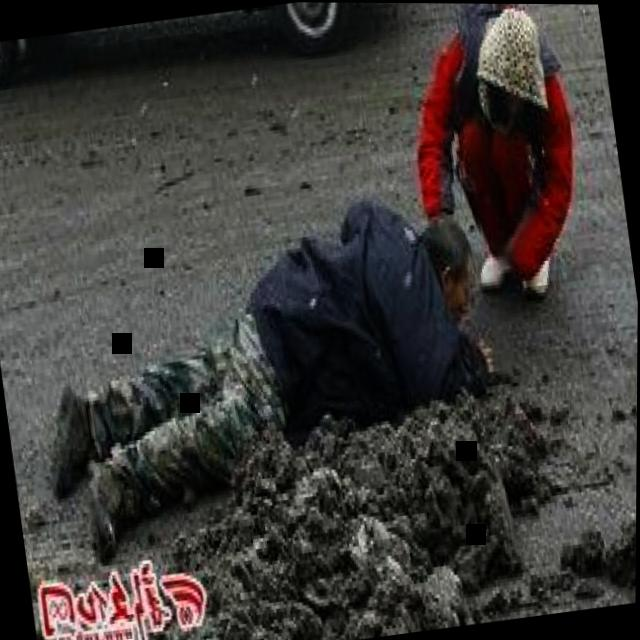Fall-Detected: (16, 161, 540, 571)
